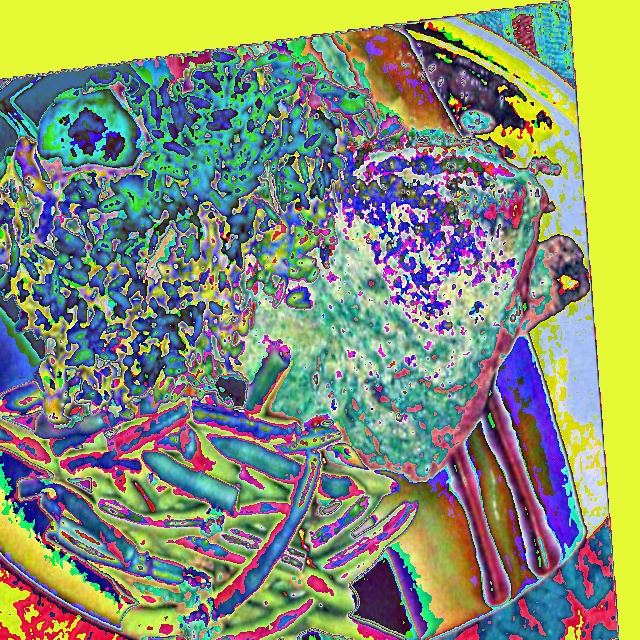background: (0, 49, 563, 639)
